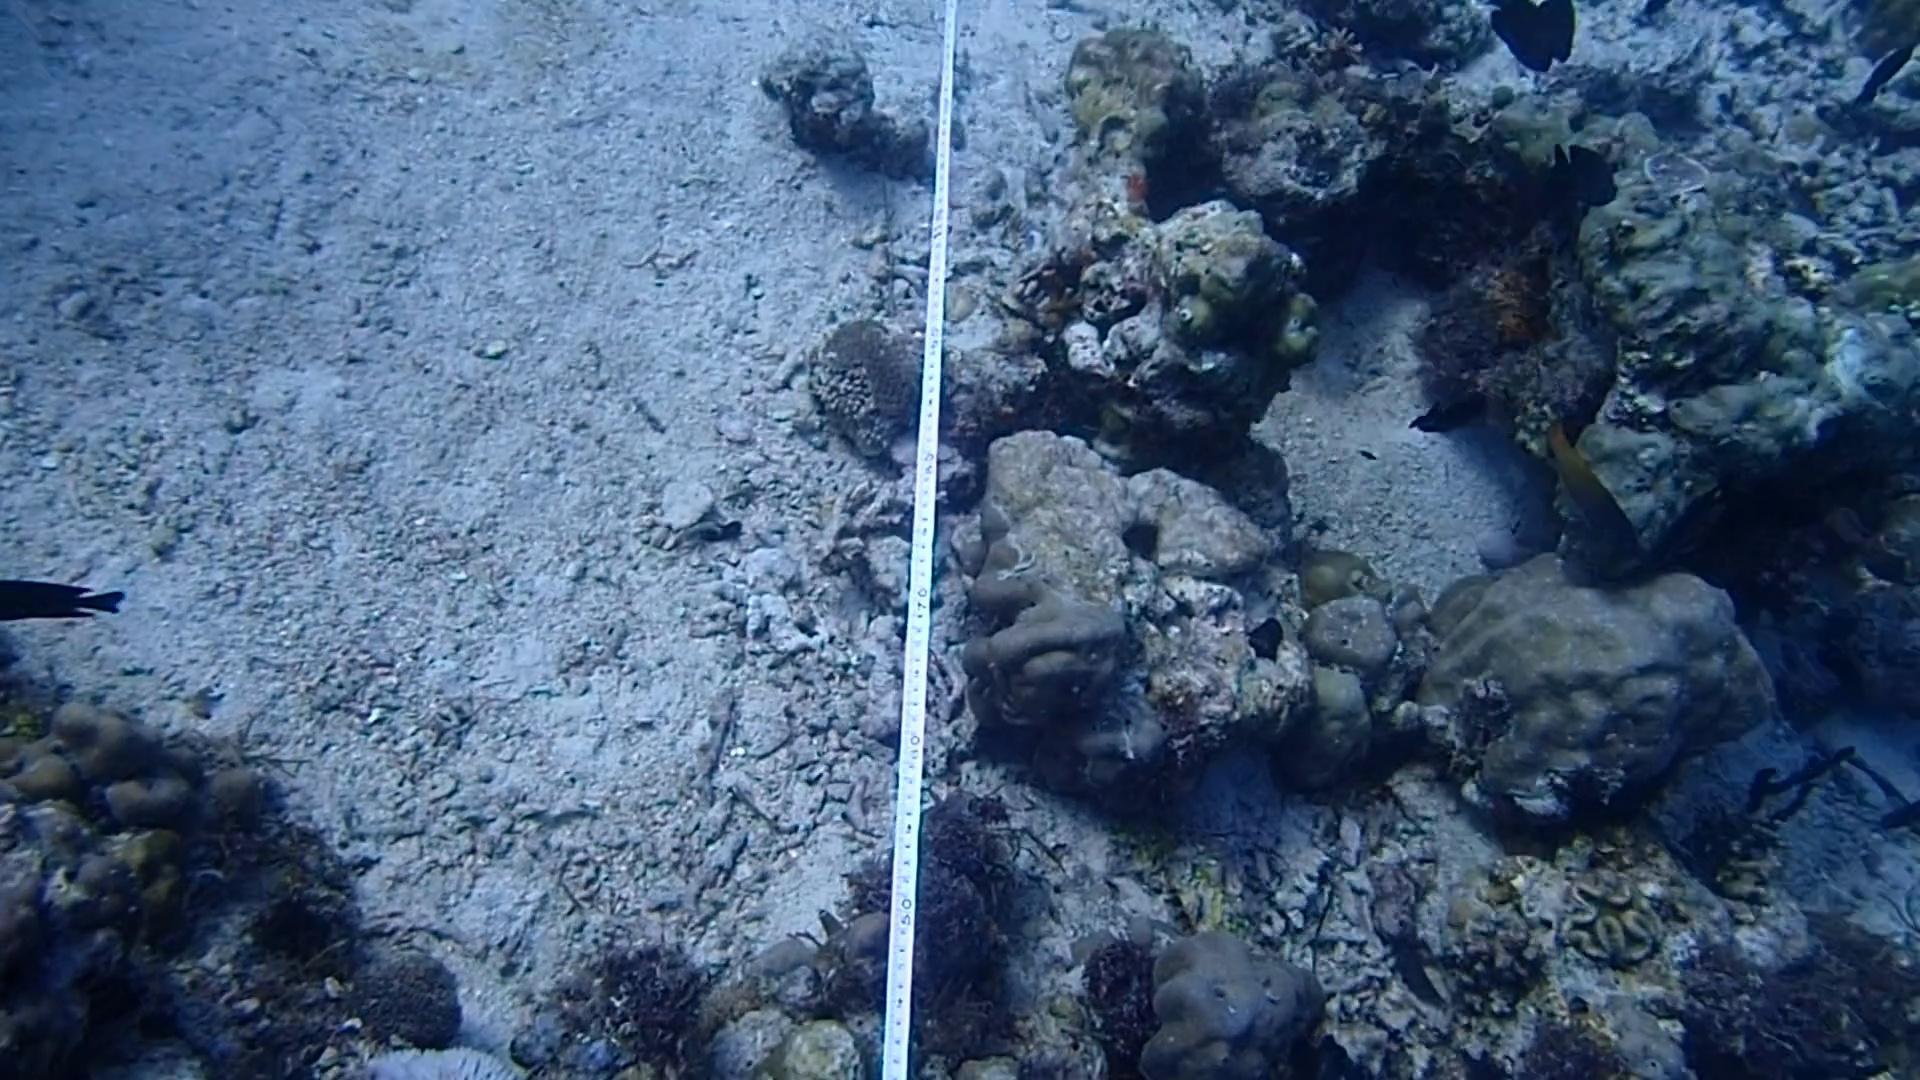Dark Fish: (0, 555, 137, 649), (1469, 0, 1563, 75), (1395, 380, 1489, 454), (1842, 28, 1920, 108), (1549, 137, 1619, 207), (1530, 0, 1600, 62)
Half Blue - Half Yellow: (1540, 417, 1648, 566)
